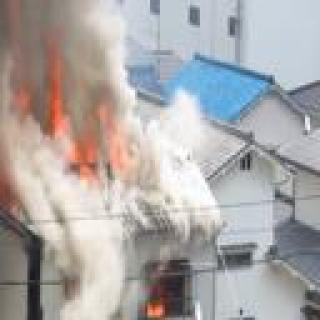fire: (38, 70, 135, 178), (146, 295, 169, 320), (0, 153, 3, 320)
